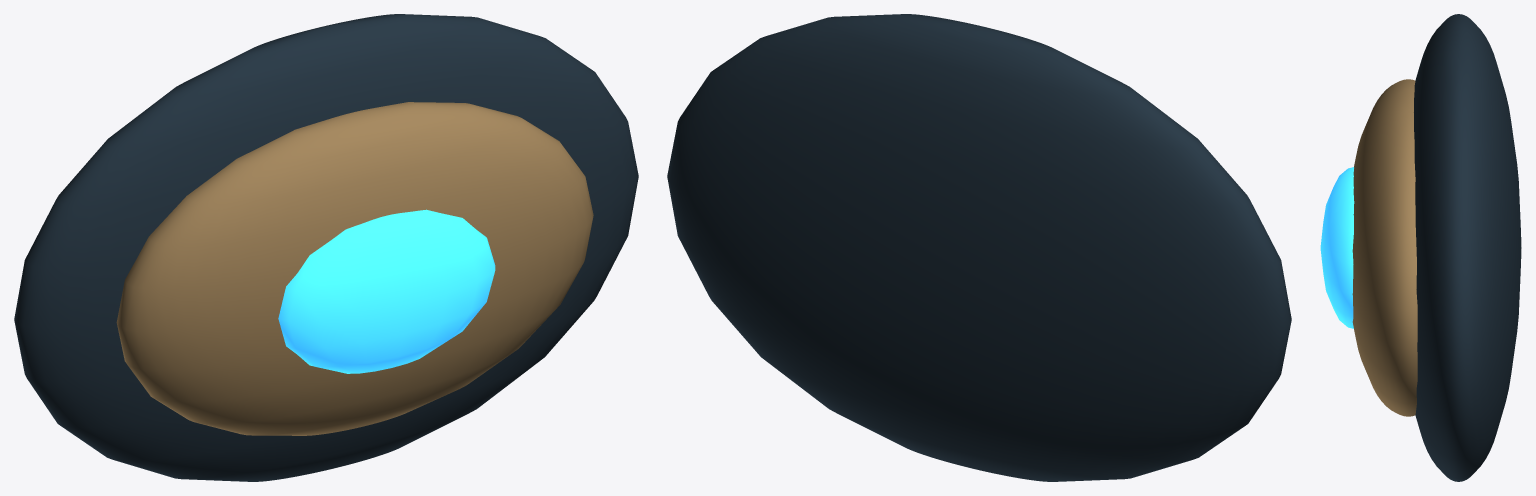
The model's file is OriginalCruiser_Deflector.glb.
The picture shows the model from 3 angles, left to right: view 1: azimuth 30°, elevation 25°; view 2: azimuth 150°, elevation 25°; view 3: azimuth 270°, elevation 25°; orthographic projection. The views are drawn at different scales.
Visible parts, largest first — view 1: OriginalCruiser_Deflector; view 2: OriginalCruiser_Deflector; view 3: OriginalCruiser_Deflector.
Part boxes in pixels (x1=…): OriginalCruiser_Deflector: x1=14, y1=14, x2=638, y2=481; OriginalCruiser_Deflector: x1=667, y1=14, x2=1291, y2=481; OriginalCruiser_Deflector: x1=1320, y1=14, x2=1521, y2=481.
Bounding box in the file's own units: 59.77 × 40.64 × 19.13.
Materials: 1 (1 with a texture image).
